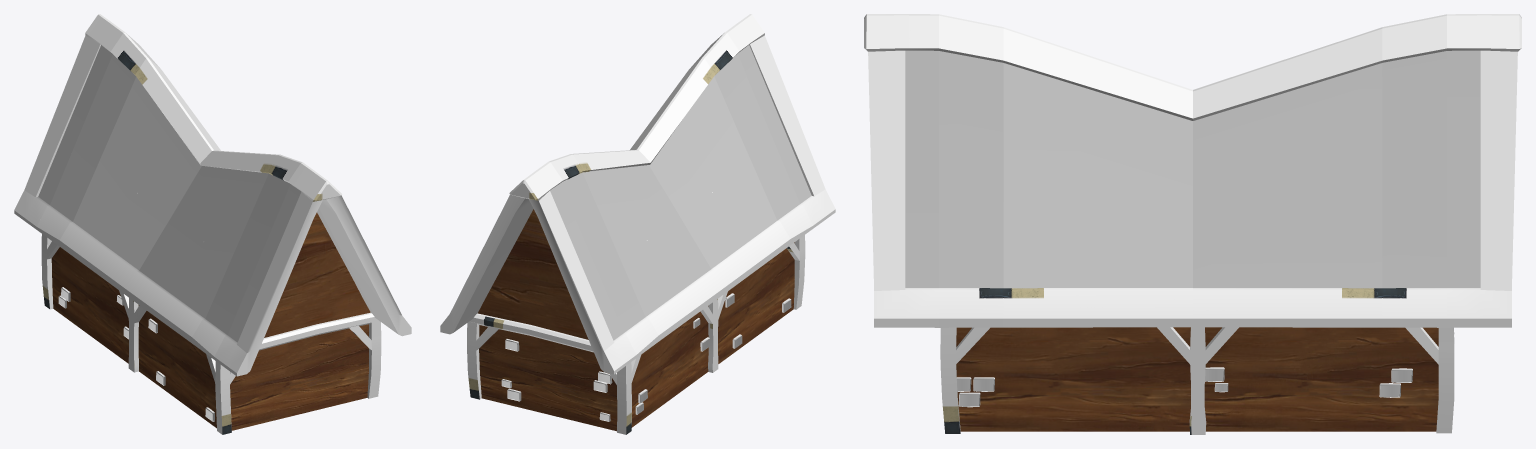
Rendered from House_Expansion.fbx.
The picture shows the model from 3 angles, left to right: view 1: azimuth 30°, elevation 25°; view 2: azimuth 150°, elevation 25°; view 3: azimuth 270°, elevation 25°; orthographic projection. The views are drawn at different scales.
Visible parts, largest first — view 1: House_Expansion; view 2: House_Expansion; view 3: House_Expansion.
Part boxes in pixels (<box>): House_Expansion: <box>14,14,411,434</box>; House_Expansion: <box>440,14,835,434</box>; House_Expansion: <box>864,14,1521,434</box>.
Bounding box in the file's own units: 465 × 647 × 1058.
